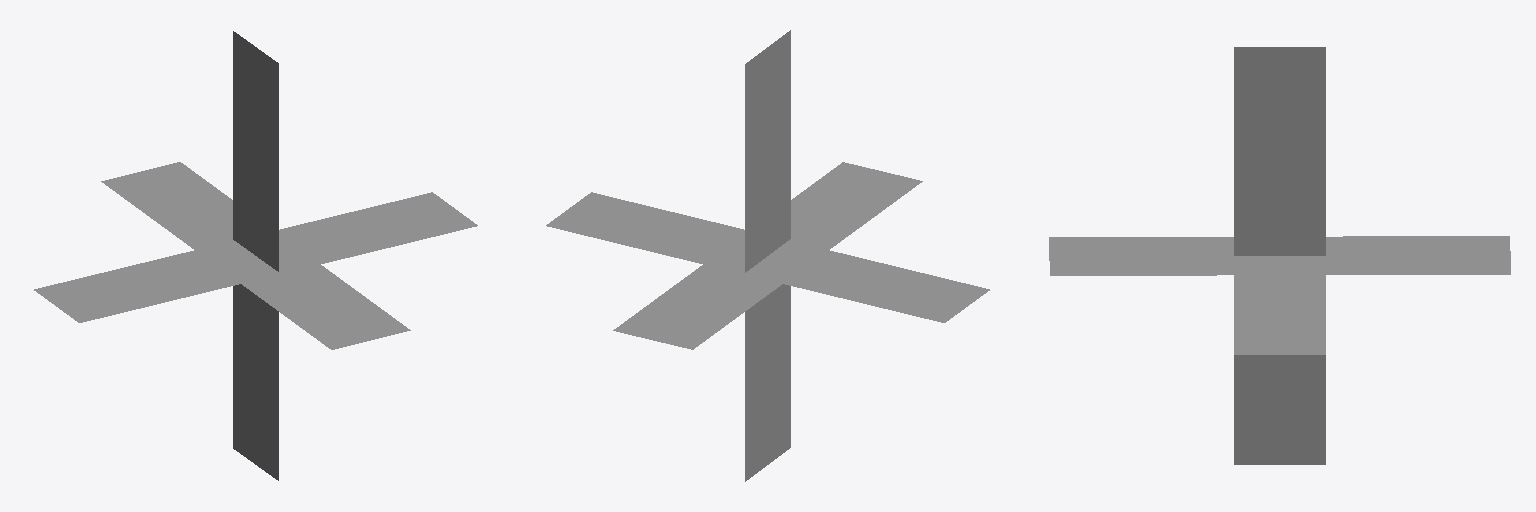
The model's file is xyzHelper.obj.
The picture shows the model from 3 angles: view 1: azimuth 30°, elevation 25°; view 2: azimuth 150°, elevation 25°; view 3: azimuth 270°, elevation 25°; orthographic projection.
Visible parts, largest first — view 1: XYZHelper; view 2: XYZHelper; view 3: XYZHelper.
Boxes of the visible parts, box(x1,y1,x2,y2) form: XYZHelper: box(34, 31, 477, 480); XYZHelper: box(546, 30, 989, 481); XYZHelper: box(1049, 47, 1510, 464).
Bounding box in the file's own units: 2 × 2 × 2.